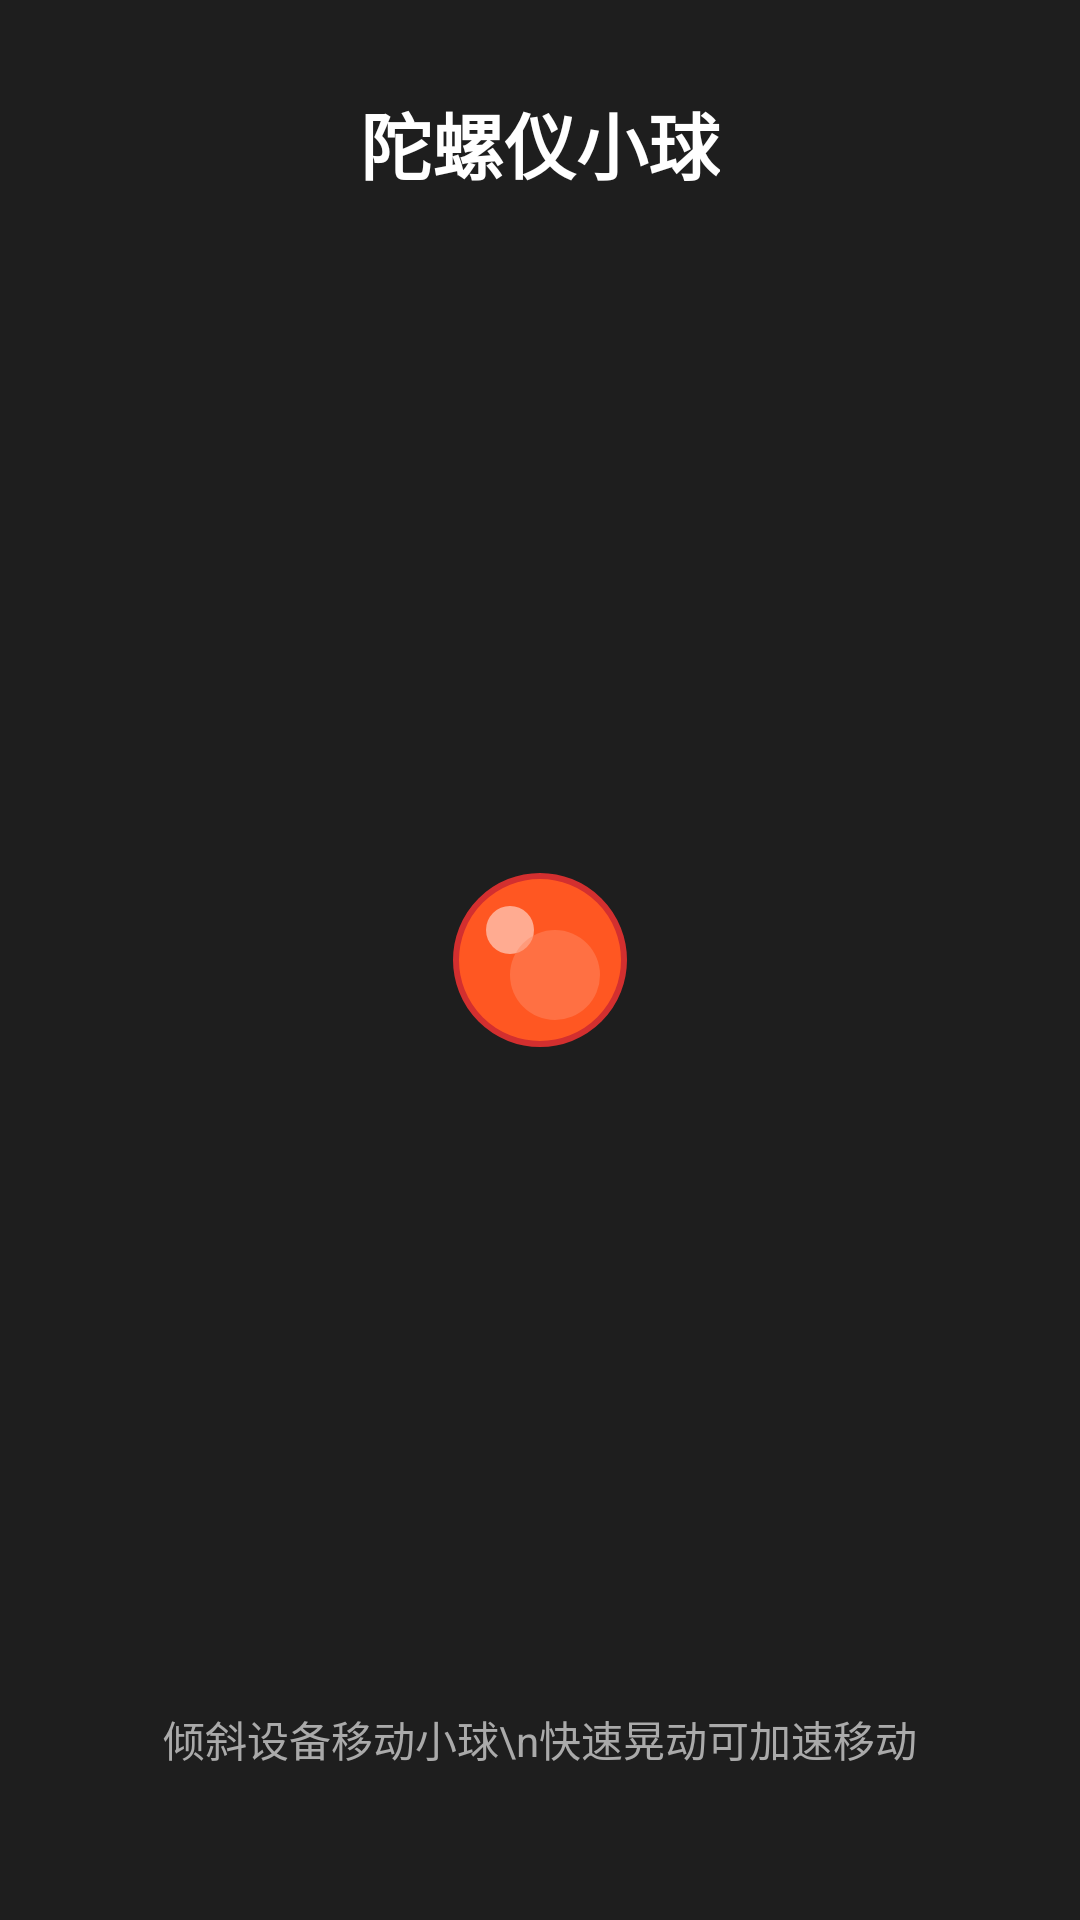

Point at icon controls on the screen. Image size 1080w x 1920h, points as (x,y).
ball: (540,960)
